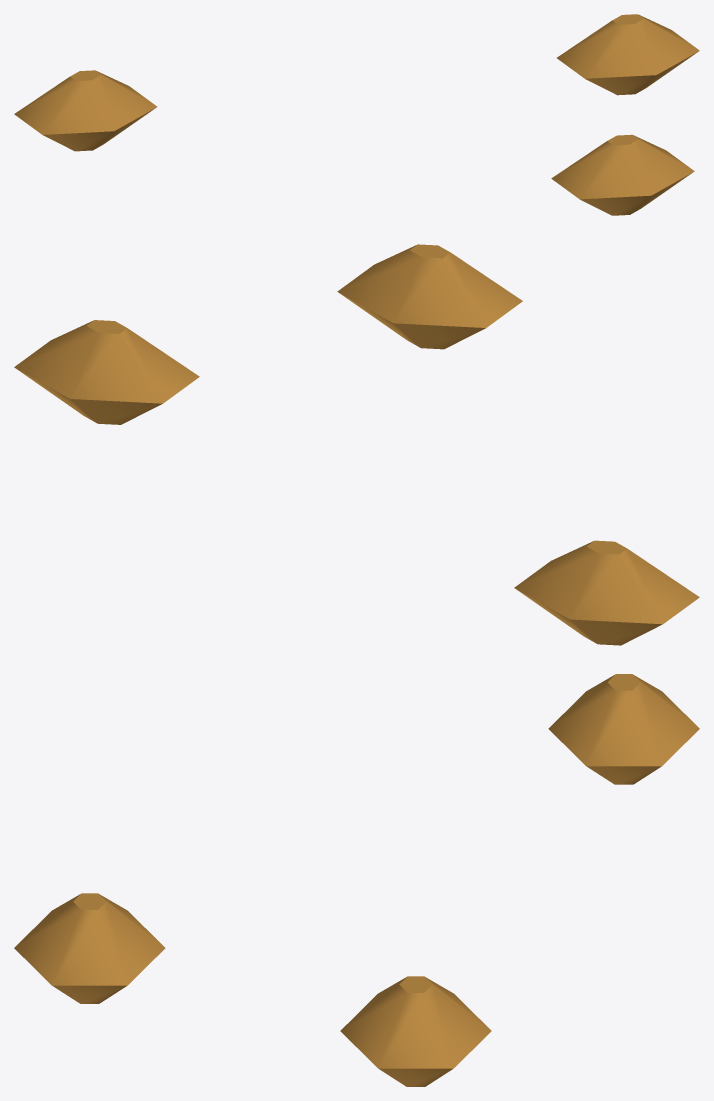
Rendered from crop_tomato_seeded.glb.
3 renders of one model, top to bottom at view 1: azimuth 30°, elevation 25°; view 2: azimuth 150°, elevation 25°; view 3: azimuth 270°, elevation 25°, orthographic. The views are drawn at different scales.
Visible parts, largest first — view 1: crop_tomato_seeded_seed_0; view 2: crop_tomato_seeded_seed_0; view 3: crop_tomato_seeded_seed_0.
Boxes of the visible parts, x1,y1,x2,y2 form: crop_tomato_seeded_seed_0: [14, 14, 699, 215]; crop_tomato_seeded_seed_0: [14, 244, 699, 645]; crop_tomato_seeded_seed_0: [14, 674, 699, 1086].
Size of the model in its own units: 0.1917 by 0.022 by 0.1473.
